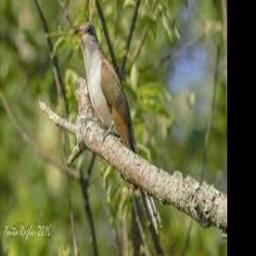Cuckoo: (74, 22, 161, 236)
